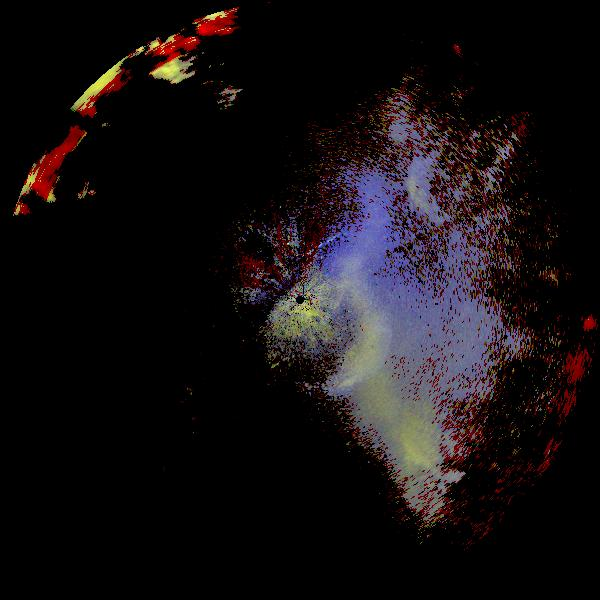roost: (385, 115, 520, 250)
